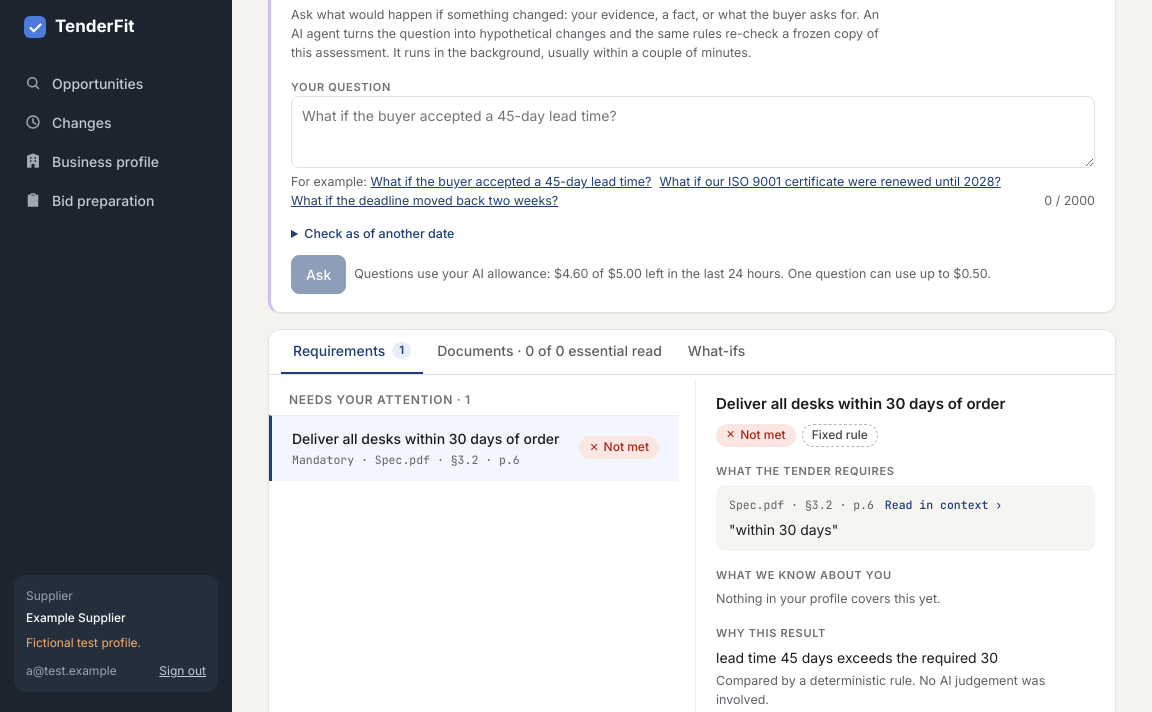
hypothetical never passes for live › the assessment lists its what-ifs in their own tab
(page scrolled)
Step 1. Click the tab "What-ifs" → (717, 352), box [676, 329, 757, 374]
(page scrolled)
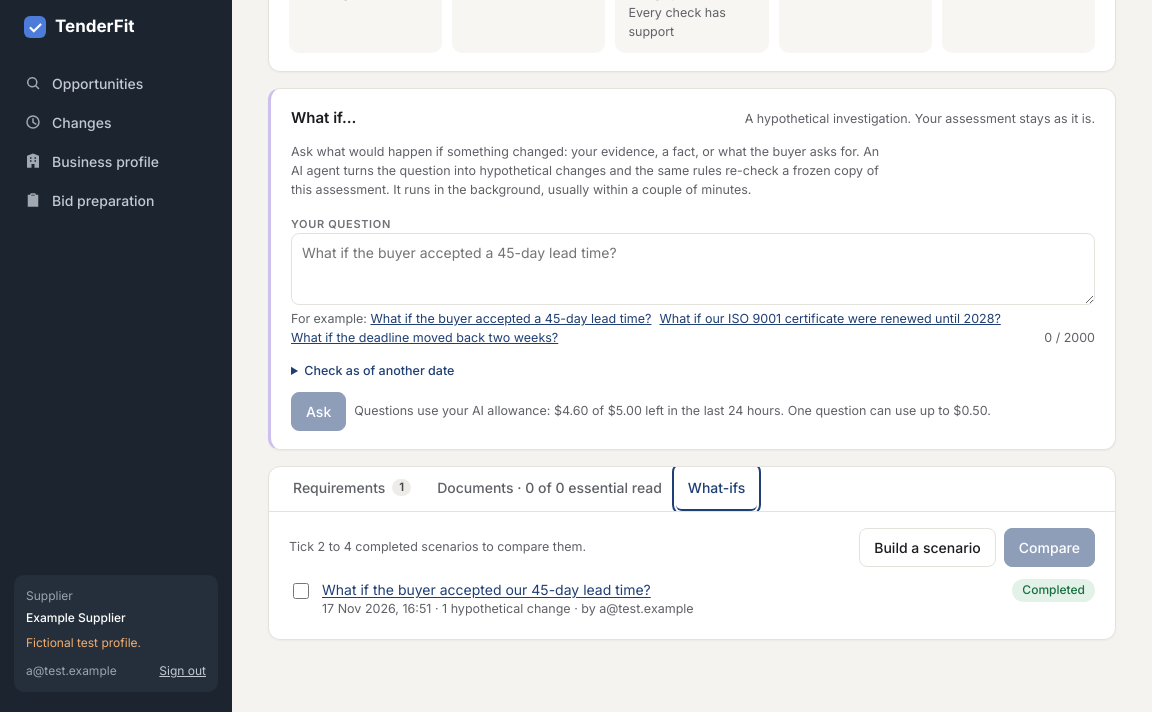
Expected: the text "Completed" is shown, [1012, 579, 1095, 602]
